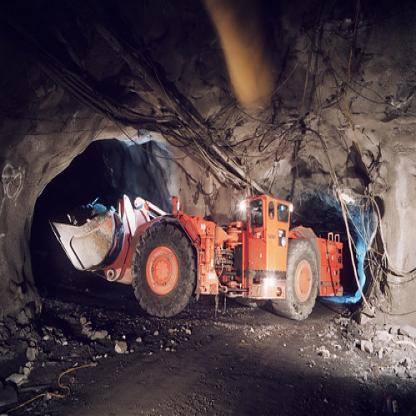bull_dozer/loader/grader: (43, 168, 350, 331)
